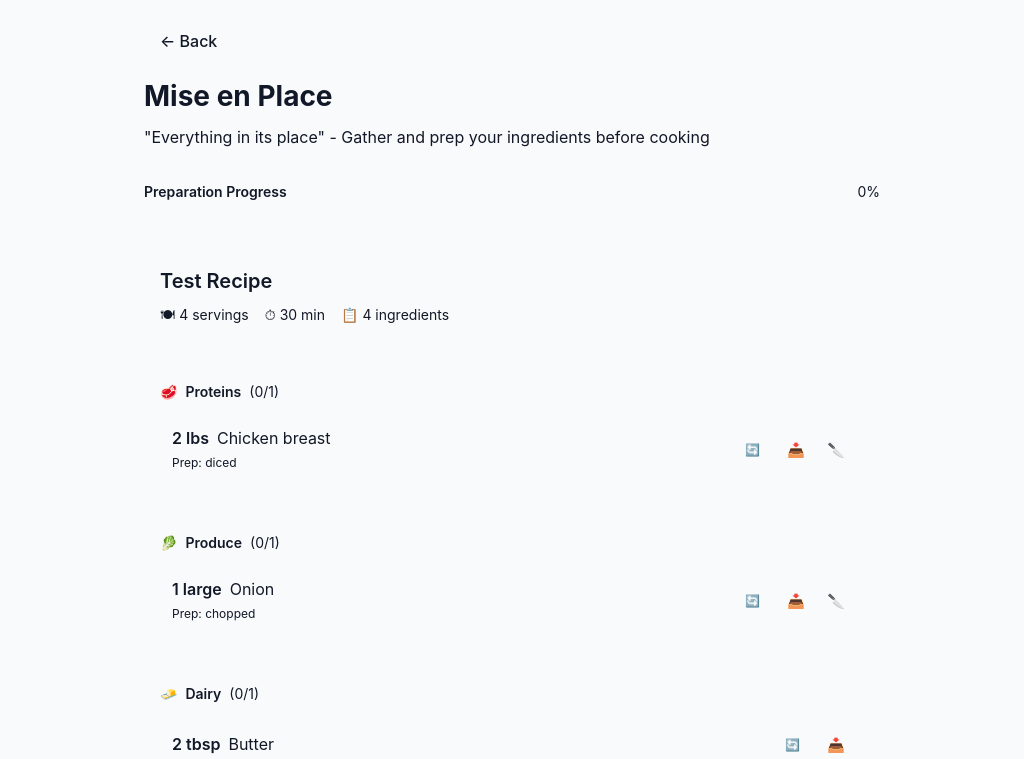
Test: MiseEnPlace › all items ready enables complete button
This screenshot has width=1024, height=759.
Click the button titled "Gathered" in the row of "Chicken breast": (796, 449) [780, 433, 812, 465]
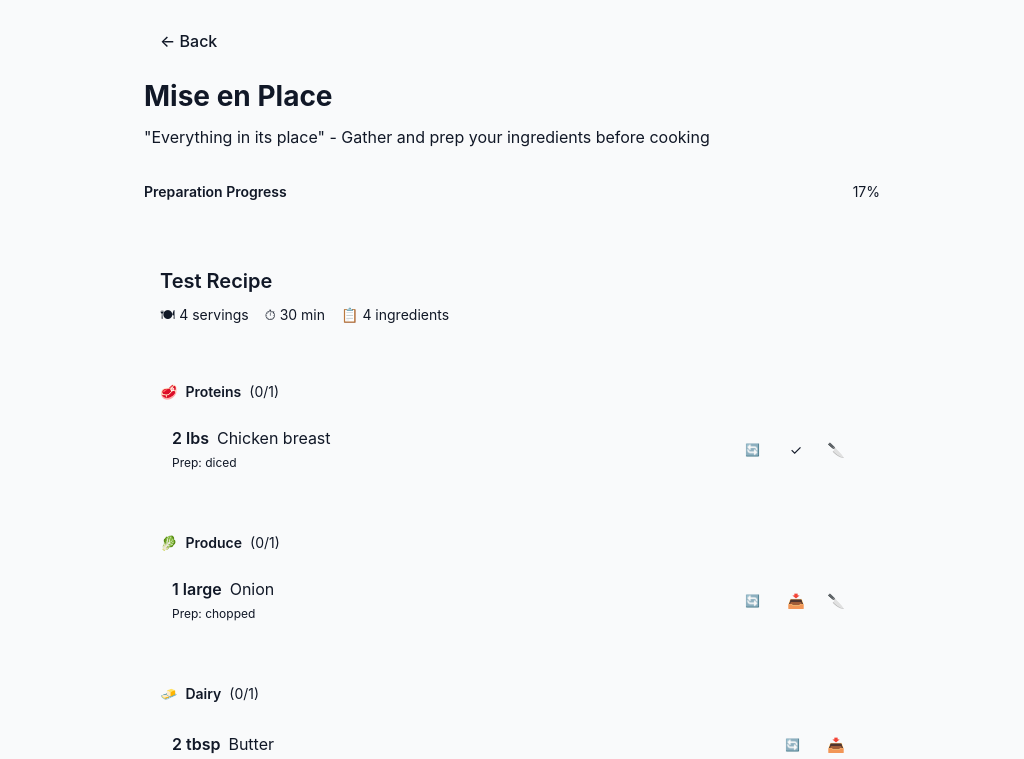
Click the button titled "Gathered" in the row of "Onion": (796, 600) [780, 584, 812, 616]
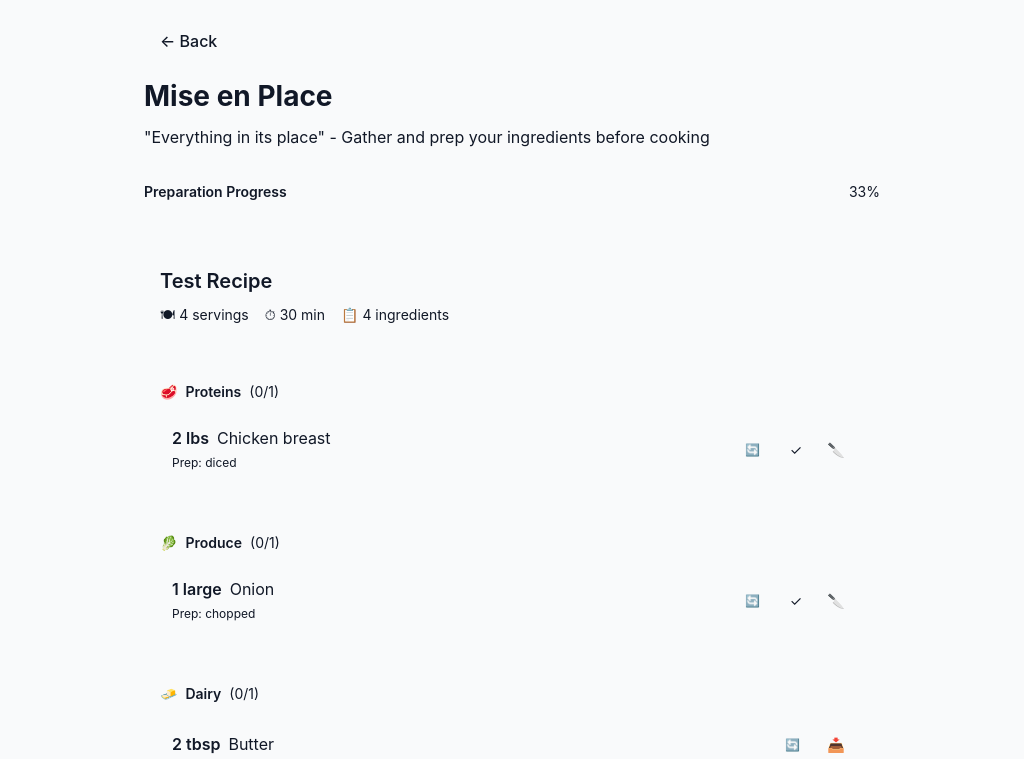
Click the button titled "Gathered": (836, 744) [820, 728, 852, 758]
(page scrolled)
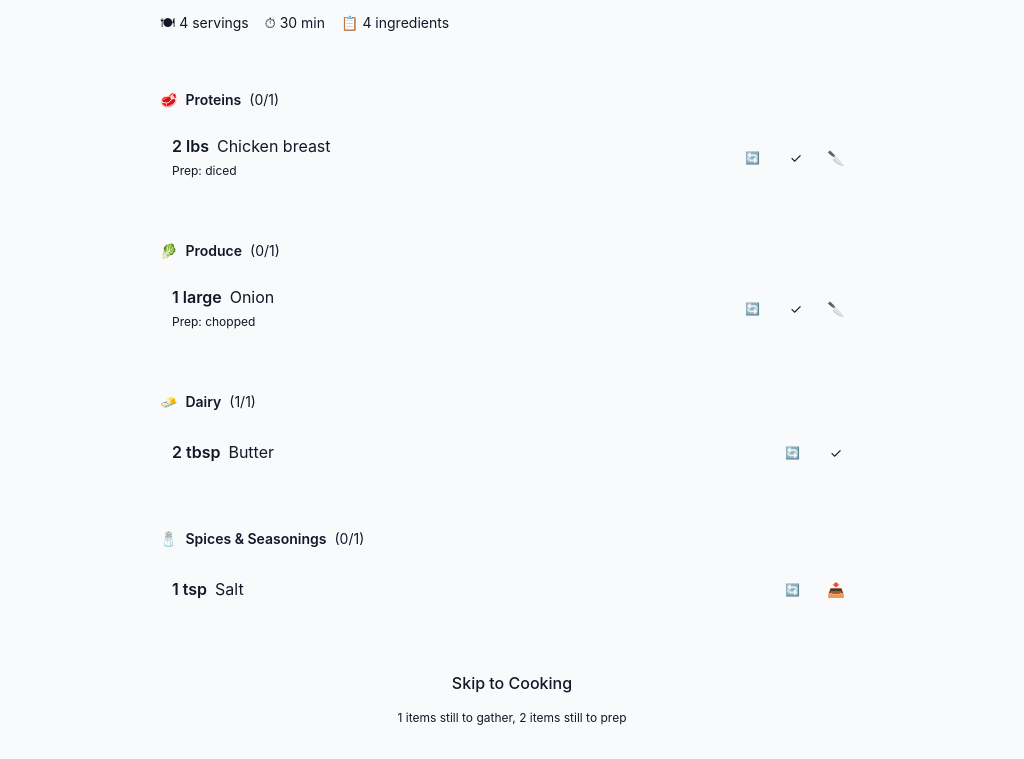
Click the button titled "Gathered": (836, 589) [820, 573, 852, 605]
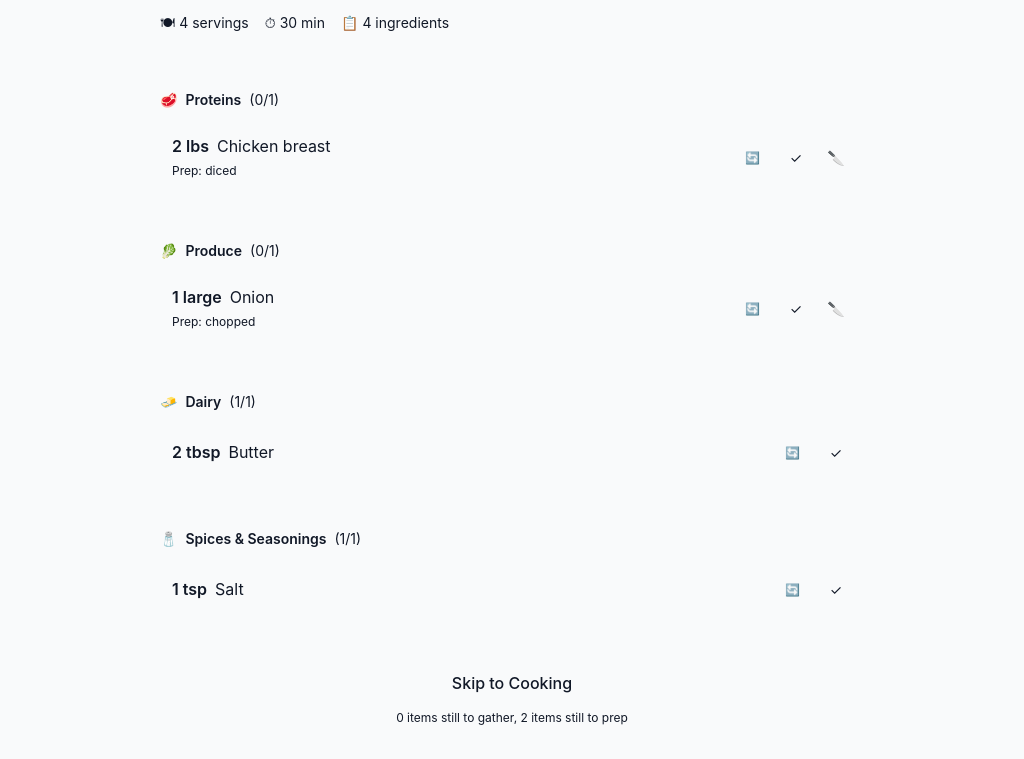
Click the button titled "Prepped" in the row of "Chicken breast": (836, 157) [820, 141, 852, 173]
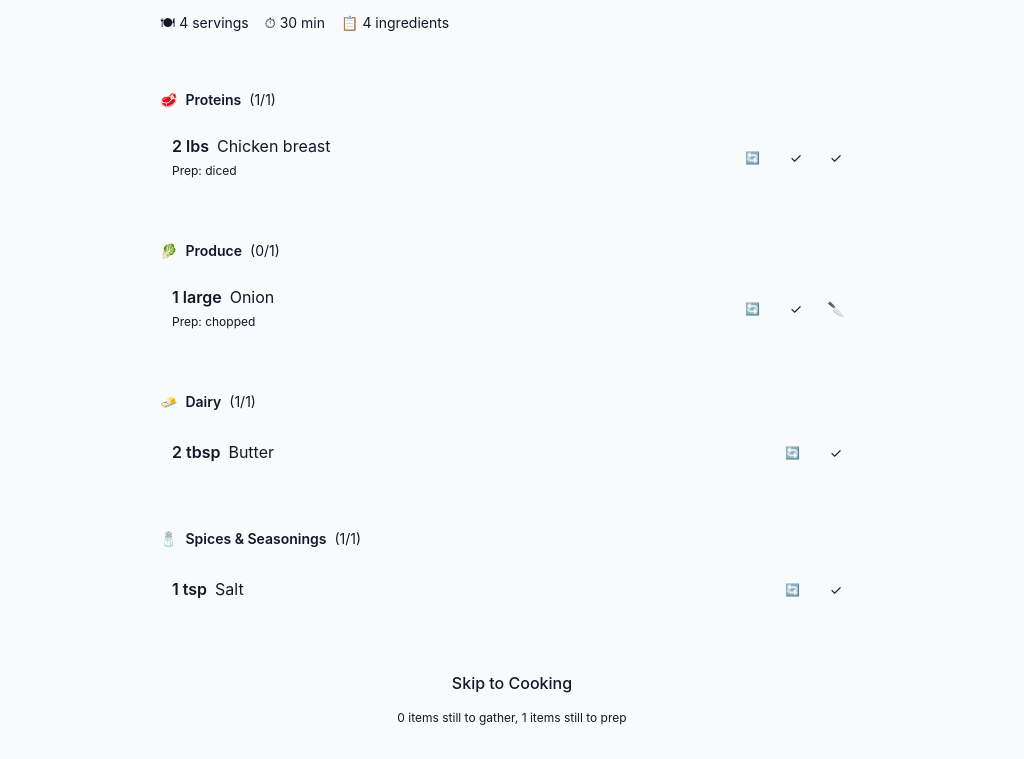
Click the button titled "Prepped": (836, 308) [820, 292, 852, 324]
(page scrolled)
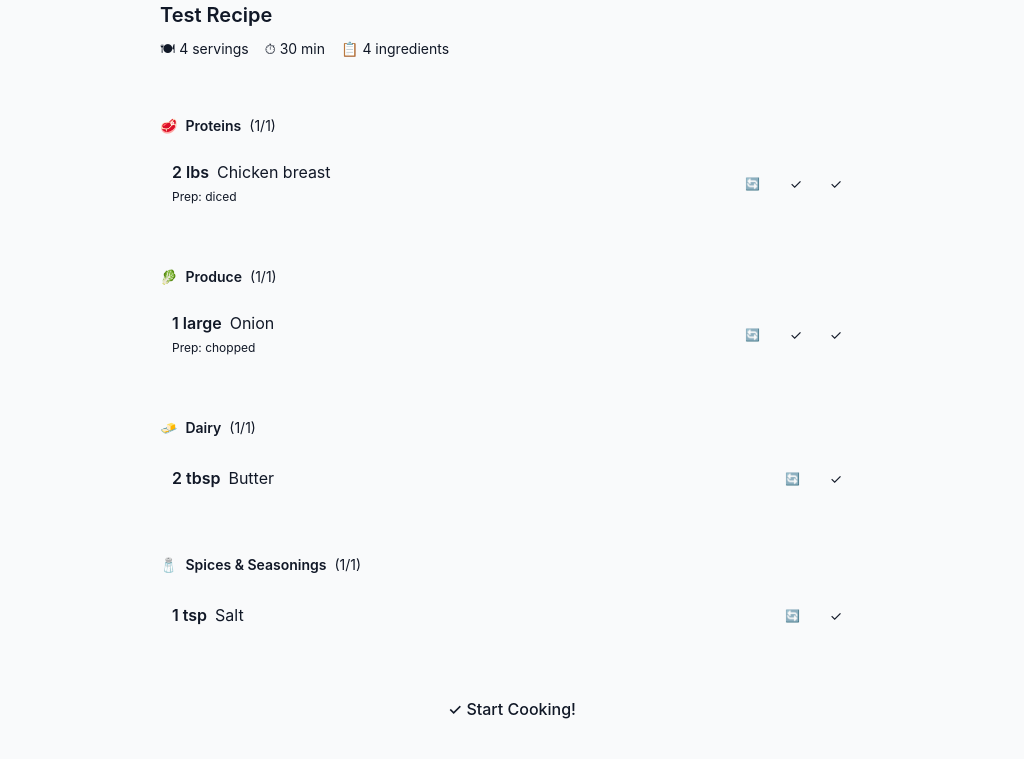
Expected: the button "✓ Start Cooking!" is shown, [412, 691, 612, 727]
Expected: the button "Skip to Cooking" is gone
